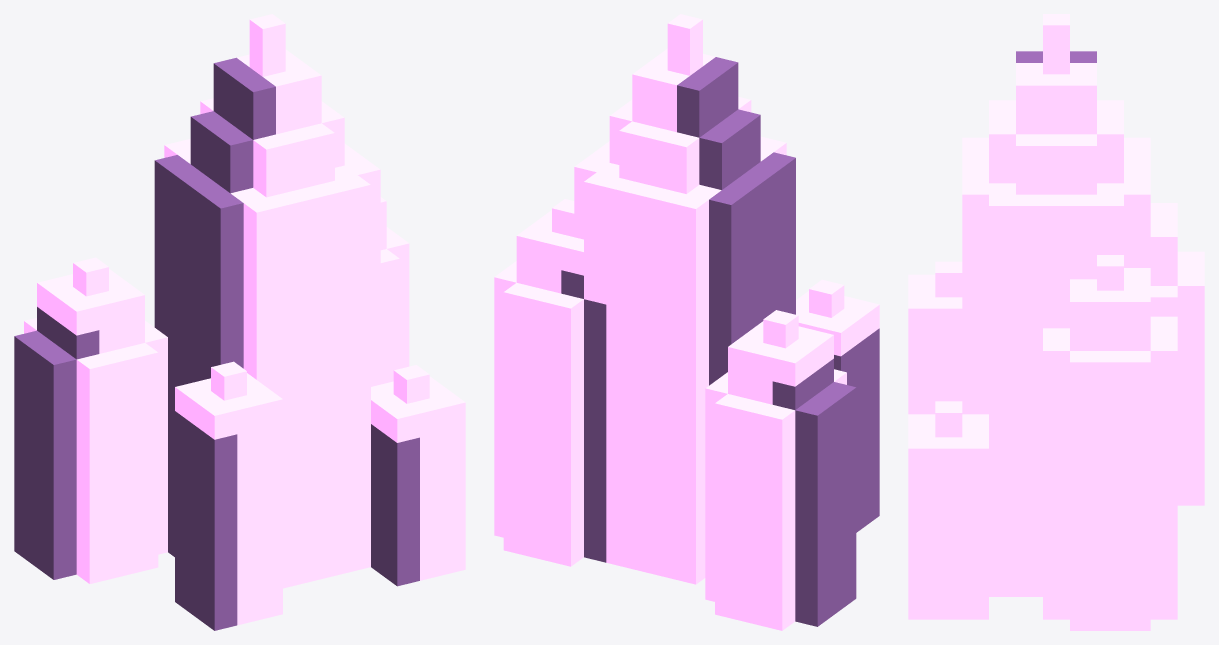
Rendered from soul_crystal_large.glb.
The picture shows the model from 3 angles, left to right: view 1: azimuth 30°, elevation 25°; view 2: azimuth 150°, elevation 25°; view 3: azimuth 270°, elevation 25°; orthographic projection. The views are drawn at different scales.
Bounding box in the file's own units: 0.625 × 0.9167 × 0.4583.
